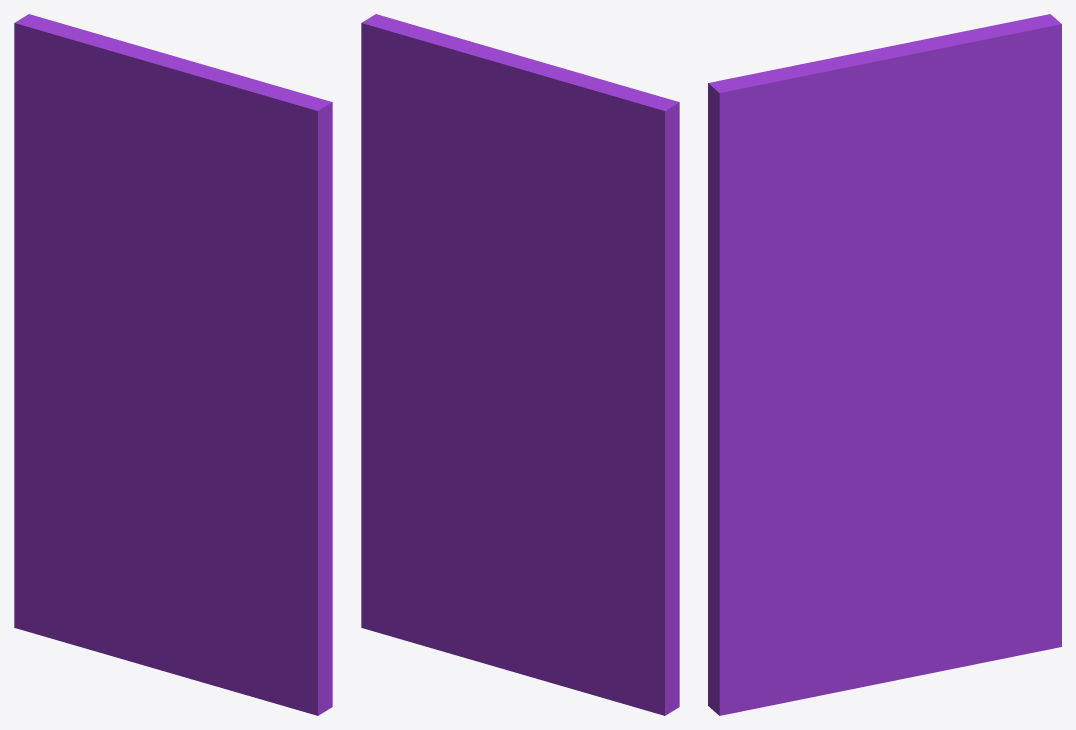
File: Glass_31_chunks.fbx
The picture shows the model from 3 angles, left to right: view 1: azimuth 30°, elevation 25°; view 2: azimuth 210°, elevation 25°; view 3: azimuth 270°, elevation 25°; orthographic projection. The views are drawn at different scales.
Parts seen in each view (by area): view 1: Glass_31_1, Glass_31_0, Glass_31_3, Glass_31_2; view 2: Glass_31_1, Glass_31_3, Glass_31_0, Glass_31_2; view 3: Glass_31_1, Glass_31_3, Glass_31_0, Glass_31_2.
Boxes of the visible parts, x1=… form: Glass_31_1: x1=14, y1=367, x2=332, y2=715; Glass_31_0: x1=133, y1=53, x2=332, y2=395; Glass_31_3: x1=14, y1=14, x2=164, y2=406; Glass_31_2: x1=198, y1=289, x2=332, y2=558; Glass_31_1: x1=361, y1=379, x2=679, y2=715; Glass_31_3: x1=507, y1=67, x2=679, y2=504; Glass_31_0: x1=361, y1=14, x2=559, y2=329; Glass_31_2: x1=361, y1=209, x2=518, y2=479; Glass_31_1: x1=708, y1=377, x2=1061, y2=715; Glass_31_3: x1=884, y1=14, x2=1061, y2=429; Glass_31_0: x1=708, y1=41, x2=915, y2=344; Glass_31_2: x1=708, y1=284, x2=896, y2=562.
Size of the model in its own units: 192 by 706 by 363.
